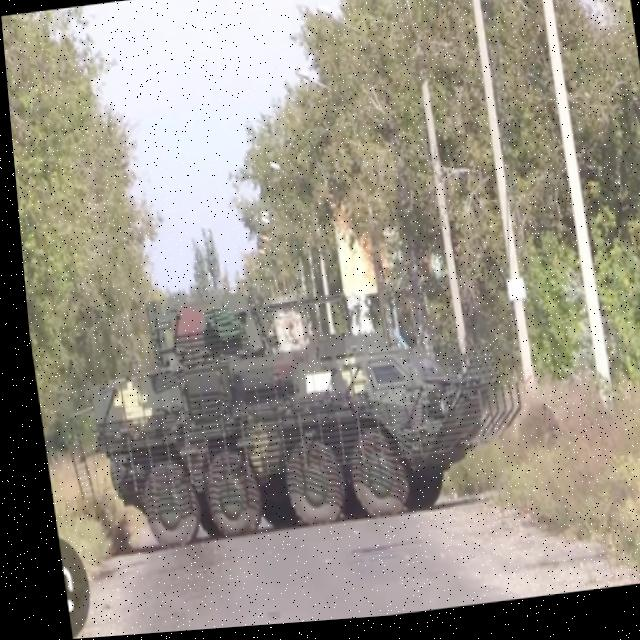MIL_APC: (51, 239, 510, 573)
